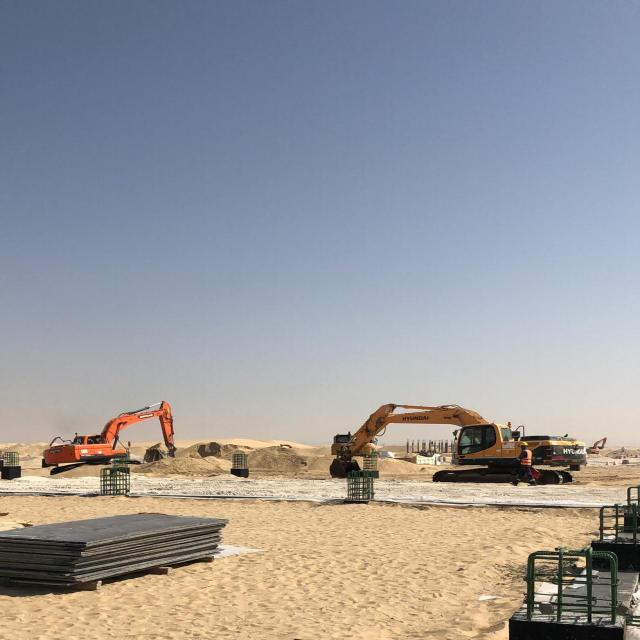Excavator: (328, 395, 590, 487), (41, 401, 178, 491)
